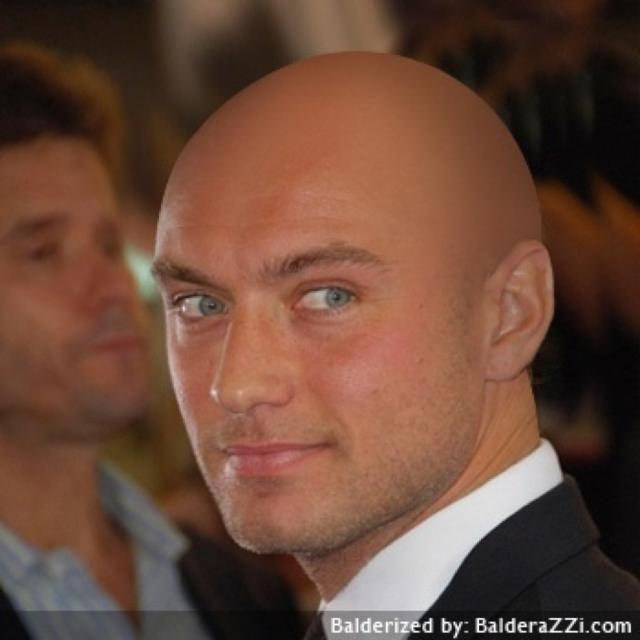no_helmet: (119, 35, 568, 307)
